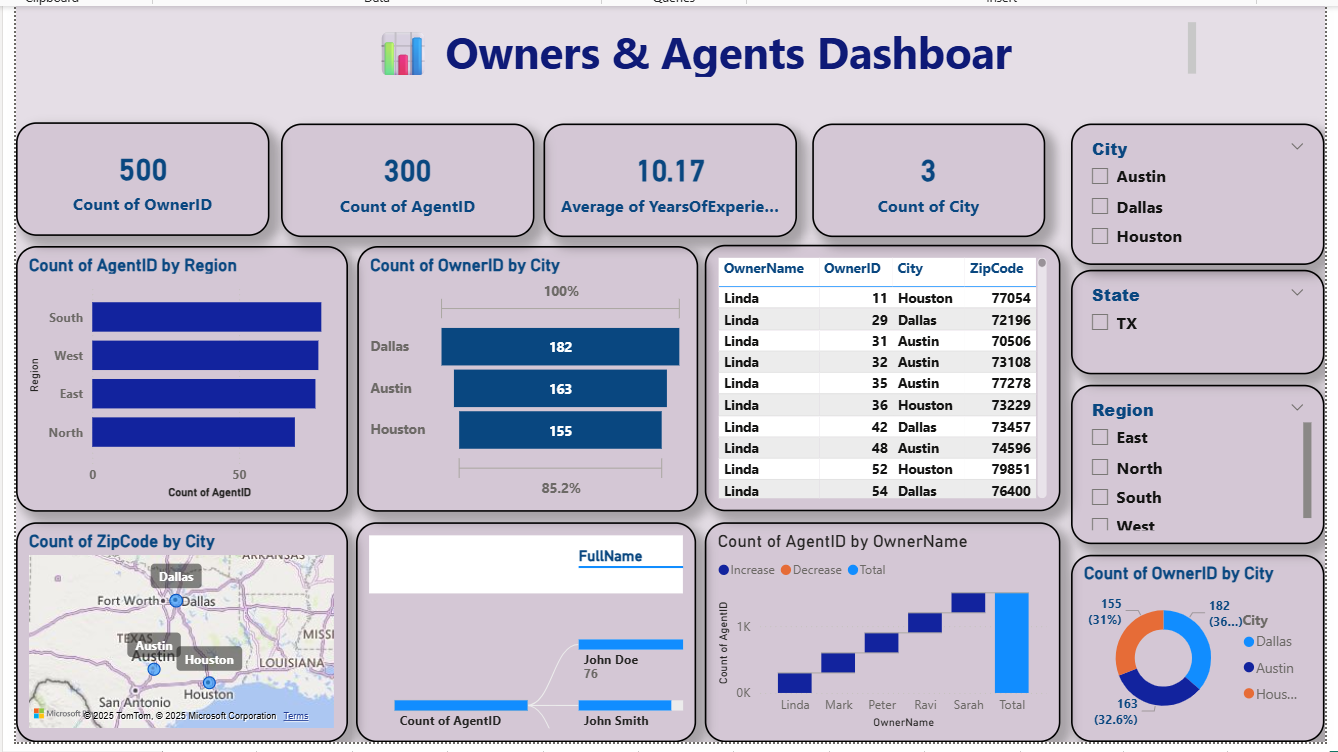

This screenshot's page, from the dashboard's own definition file:
{"tool":"powerbi","page":{"name":"Page 12","canvas":[1280,720],"ordinal":11},"visuals":[{"type":"textbox","box":[173.1,11.5,985.4,63.5],"z":0},{"type":"card","fields":{"Values":["Count(Owners.OwnerID)"]},"box":[0,114,248.2,111.1],"z":1},{"type":"card","fields":{"Values":["CountNonNull(Agents.AgentID)"]},"box":[259.7,115.4,248.2,111.1],"z":2},{"type":"card","fields":{"Values":["Avg(Agents.YearsOfExperience)"]},"box":[516.5,115.4,248.2,111.1],"z":3},{"type":"card","fields":{"Values":["Count(Owners.City)"]},"box":[779.1,115.4,228,111.1],"z":4},{"type":"slicer","fields":{"Values":["Owners.City"]},"box":[1031.6,115.4,248.2,138.5],"z":5},{"type":"slicer","fields":{"Values":["Owners.State"]},"box":[1031.6,258.3,248.2,102.4],"z":6},{"type":"slicer","fields":{"Values":["Agents.Region"]},"box":[1031.6,370.8,248.2,155.8],"z":7},{"type":"donutChart","fields":{"Category":["Owners.City"],"Y":["CountNonNull(Owners.OwnerID)"]},"box":[1031.6,536.7,248.2,183.2],"z":8},{"type":"barChart","fields":{"Category":["Agents.Region"],"Y":["CountNonNull(Agents.AgentID)"]},"box":[0,235.2,324.6,259.7],"z":9},{"type":"map","fields":{"Category":["Owners.City"],"Size":["CountNonNull(Owners.ZipCode)"]},"box":[0,505,324.6,215],"z":10},{"type":"funnel","fields":{"Category":["Owners.City"],"Y":["CountNonNull(Owners.OwnerID)"]},"box":[333.3,235.2,333.3,259.7],"z":11},{"type":"tableEx","fields":{"Values":["Owners.OwnerName","Owners.OwnerID","Owners.City","Owners.ZipCode"]},"box":[673.8,233.7,347.7,261.1],"z":12},{"type":"decompositionTreeVisual","fields":{"Analyze":["CountNonNull(Agents.AgentID)"],"ExplainBy":["Agents.FullName"]},"box":[333,505,333,215],"z":13},{"type":"waterfallChart","fields":{"Category":["Owners.OwnerName"],"Y":["CountNonNull(Agents.AgentID)"]},"box":[674,505,348,215],"z":14}]}

Visuals, with their boxes in screenshot pixels (x1, y1, x2, y2):
textbox: (185, 12, 1201, 77)
card - Count(Owners.OwnerID): (7, 118, 263, 232)
card - CountNonNull(Agents.AgentID): (275, 119, 531, 233)
card - Avg(Agents.YearsOfExperience): (539, 119, 795, 233)
card - Count(Owners.City): (810, 119, 1045, 233)
slicer - Owners.City: (1070, 119, 1326, 262)
slicer - Owners.State: (1070, 266, 1326, 372)
slicer - Agents.Region: (1070, 382, 1326, 543)
donutChart - Owners.City x CountNonNull(Owners.OwnerID): (1070, 553, 1326, 742)
barChart - Agents.Region x CountNonNull(Agents.AgentID): (7, 242, 342, 510)
map - Owners.City x CountNonNull(Owners.ZipCode): (7, 521, 342, 742)
funnel - Owners.City x CountNonNull(Owners.OwnerID): (351, 242, 694, 510)
tableEx - Owners.OwnerName x Owners.OwnerID: (702, 241, 1060, 510)
decompositionTreeVisual - CountNonNull(Agents.AgentID) x Agents.FullName: (350, 521, 694, 742)
waterfallChart - Owners.OwnerName x CountNonNull(Agents.AgentID): (702, 521, 1061, 742)
